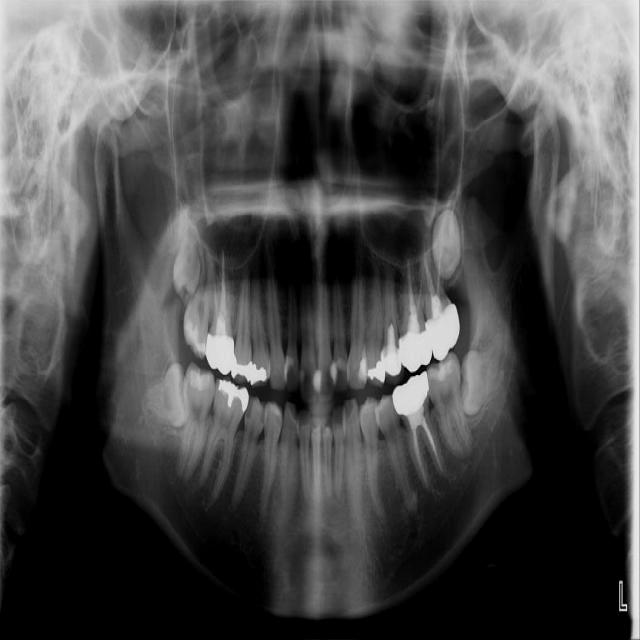Caries: (245, 397, 254, 418), (260, 401, 267, 425)
Crown: (425, 297, 460, 361), (399, 324, 432, 373), (205, 328, 234, 375), (380, 332, 403, 377)
Filling: (392, 373, 429, 426), (182, 309, 208, 356), (220, 380, 248, 410), (428, 358, 456, 386), (228, 357, 254, 383), (188, 364, 213, 390), (300, 367, 325, 391), (324, 361, 347, 387), (252, 361, 269, 388), (369, 359, 385, 384), (282, 358, 296, 381), (359, 353, 370, 382)
Root Canal Treatment: (412, 426, 428, 483), (424, 425, 441, 473), (423, 241, 436, 296), (219, 253, 224, 320), (416, 264, 422, 306), (407, 259, 412, 309), (211, 283, 216, 318), (437, 258, 439, 293)
impacted tooth: (462, 333, 511, 417), (142, 360, 188, 427), (174, 213, 205, 293), (435, 208, 462, 272)
